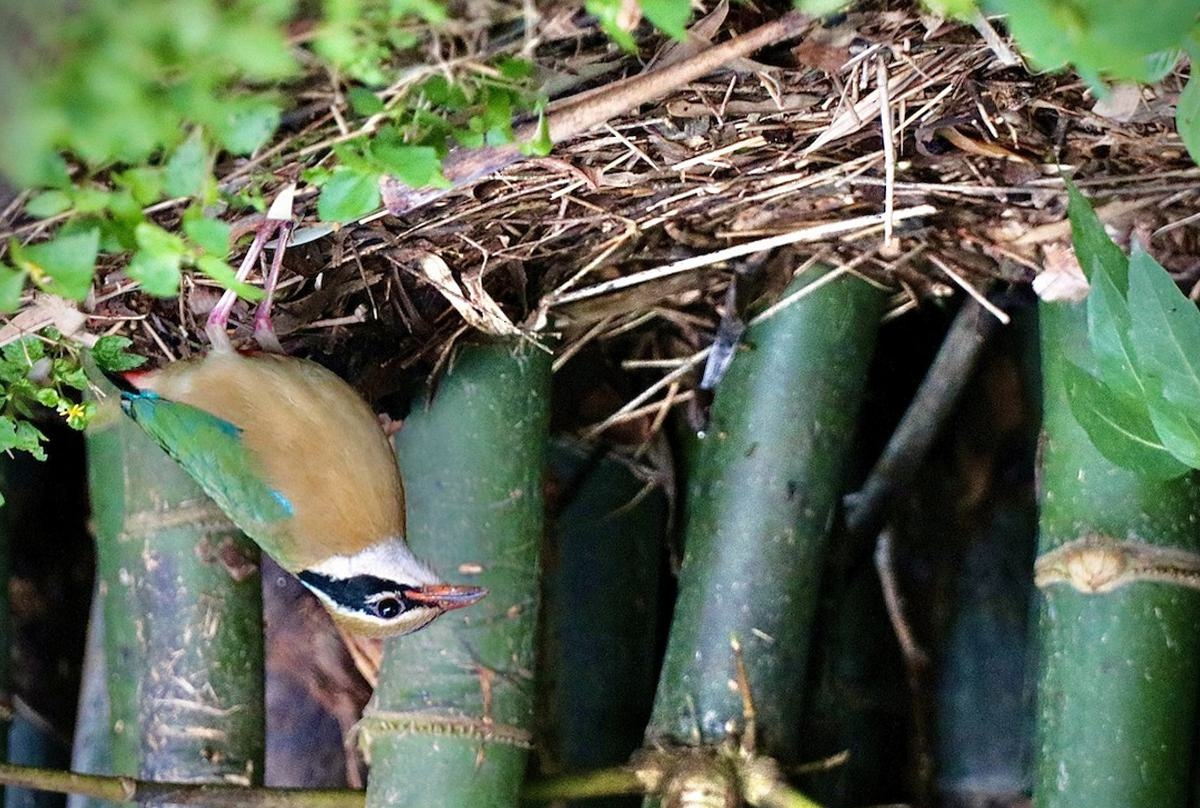pitta: (49, 109, 500, 649)
